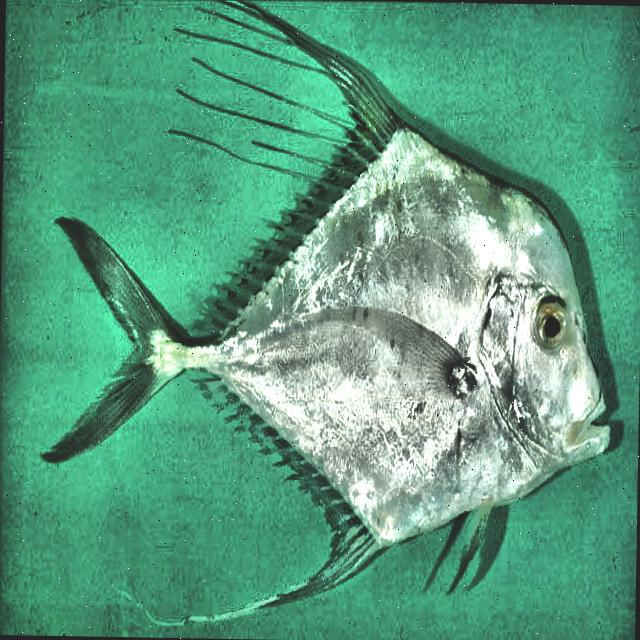fish: (37, 0, 617, 628)
